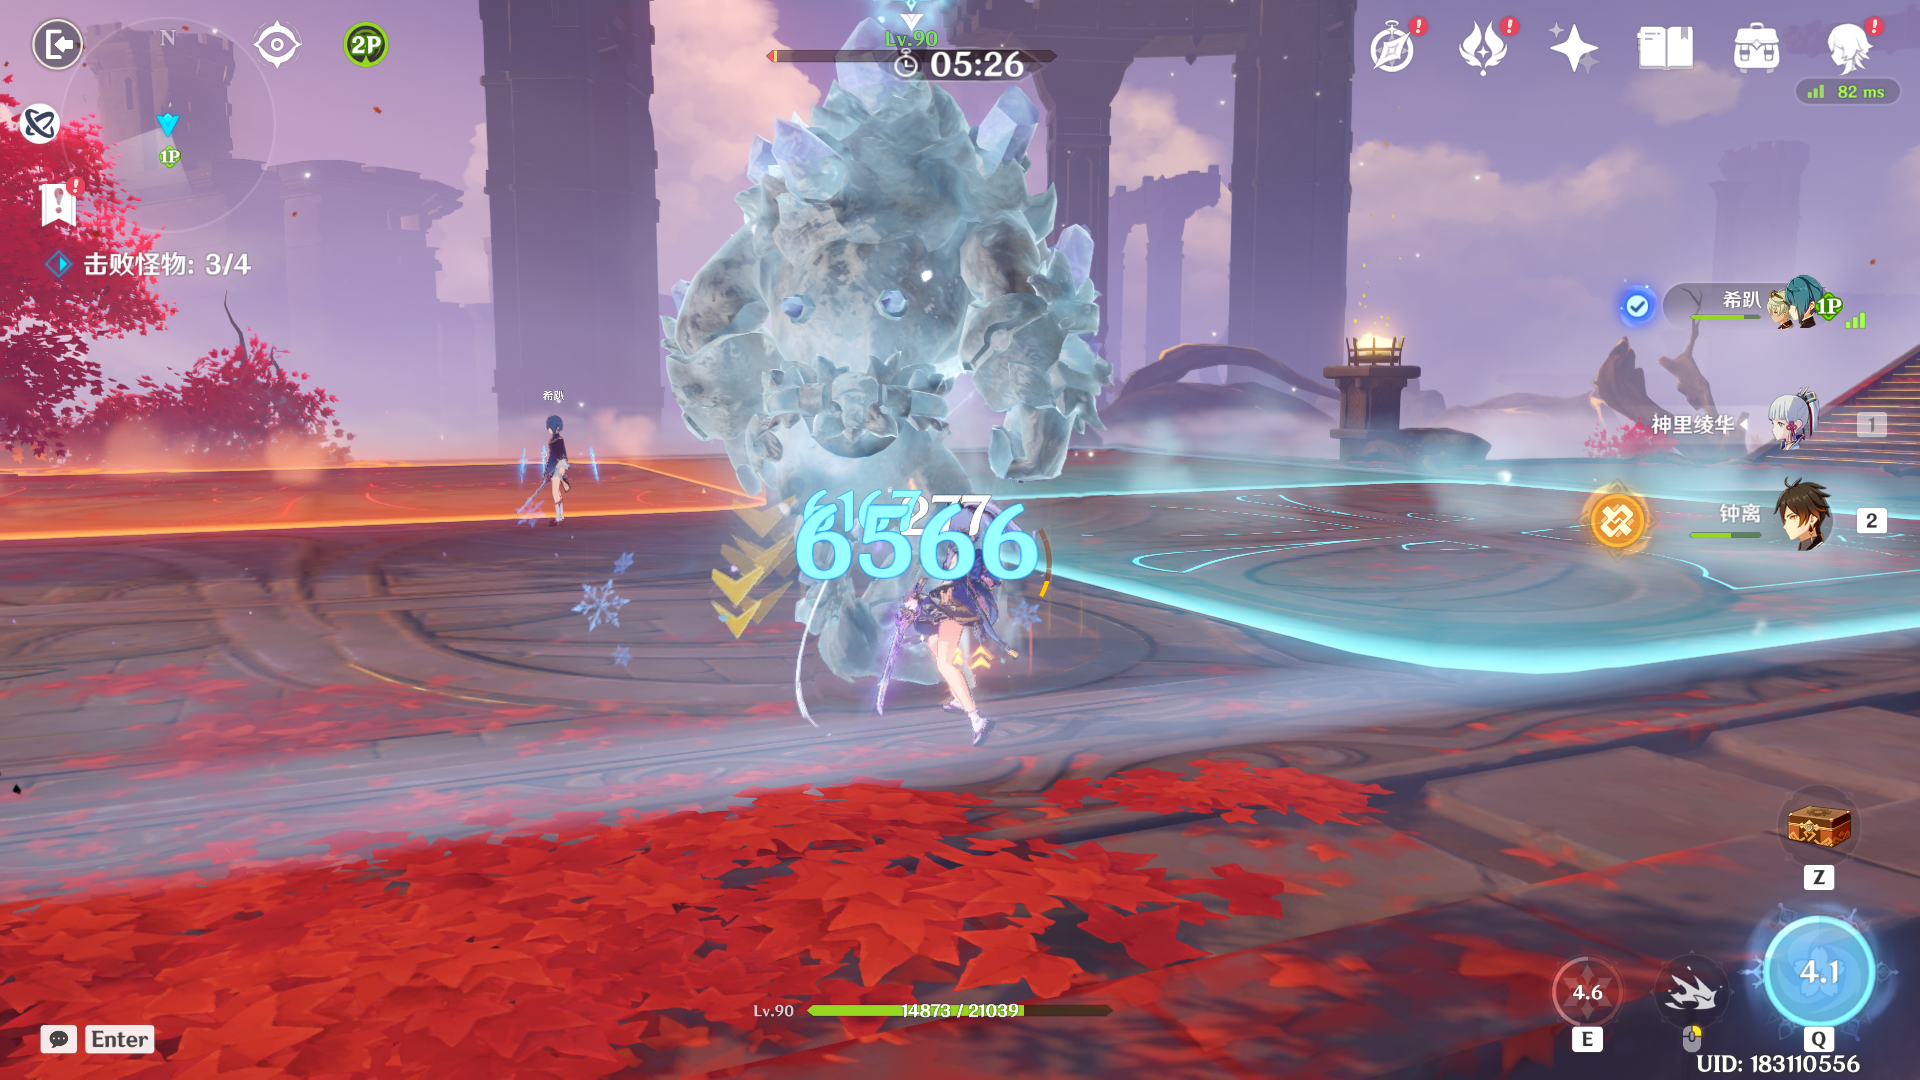bosshili: (638, 15, 1179, 703)
character: (502, 396, 603, 549)
